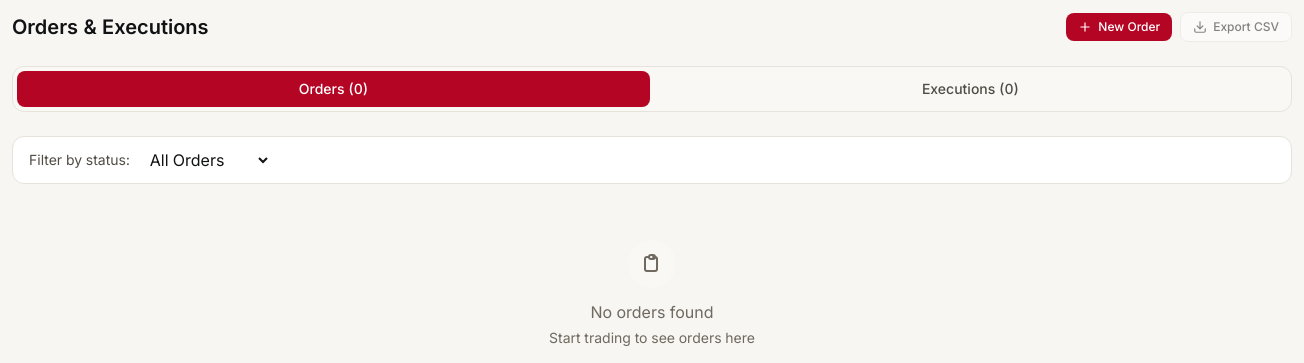
Orders › shows executions empty state when no executions
The image size is (1304, 363).
Click the button "Executions (0)".
click(970, 89)  # box [654, 71, 1287, 107]
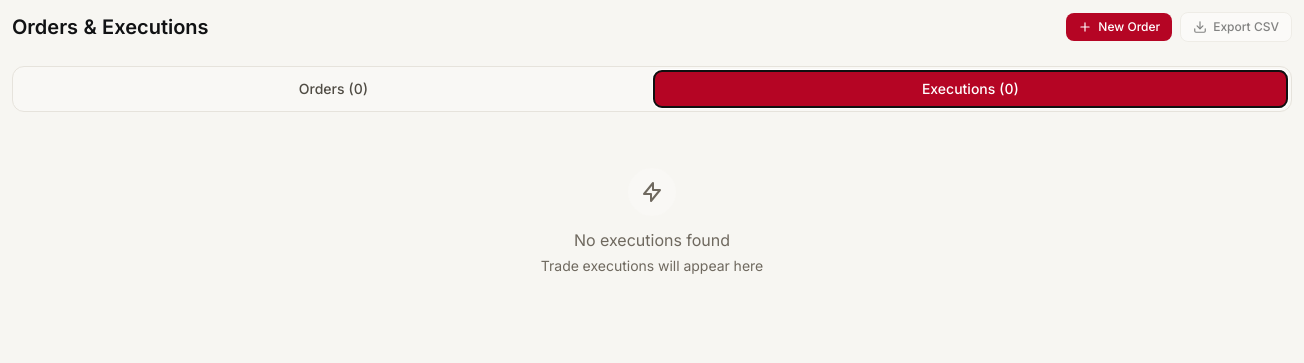
Result: the text "No executions found" is shown at [574, 230, 730, 250]
